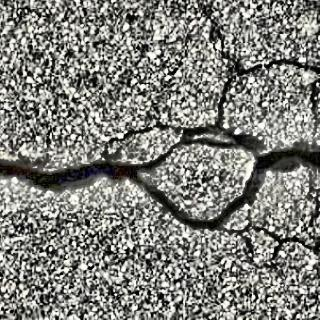crack: (6, 143, 320, 231), (204, 56, 320, 126)
